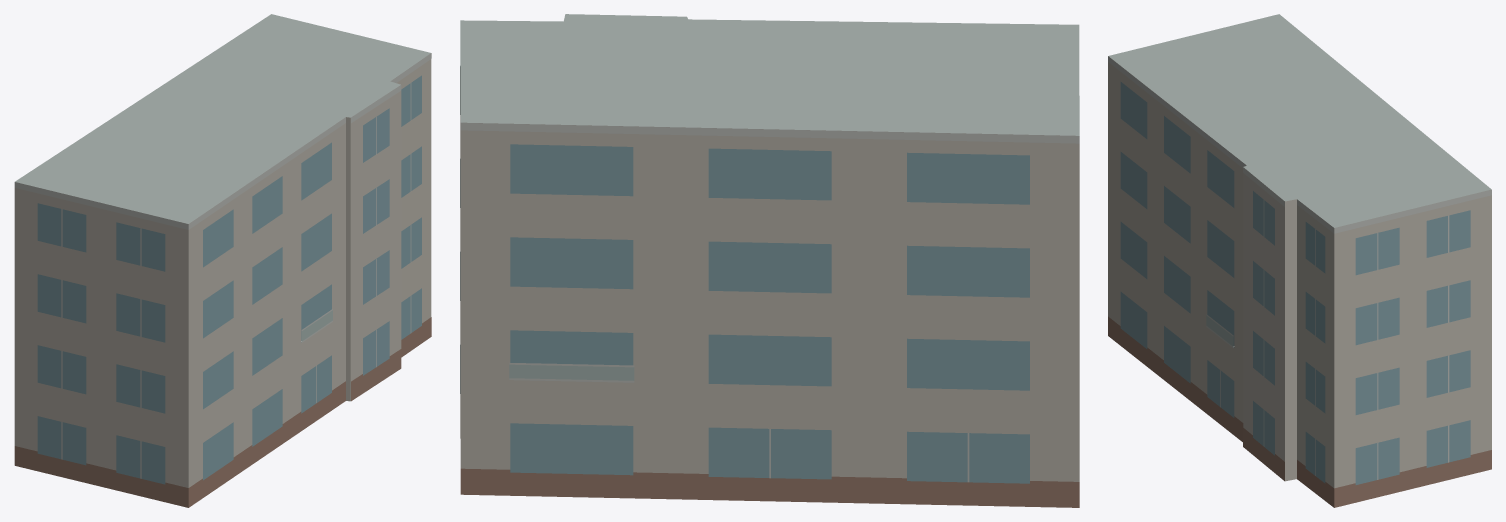
Rendered from survey-upis-32622229.glb.
3 views of the same model, side by side, from view 1: azimuth 30°, elevation 25°; view 2: azimuth 150°, elevation 25°; view 3: azimuth 270°, elevation 25° (orthographic). The views are drawn at different scales.
Visible parts, largest first — view 1: survey-upis-32622229.tmp; view 2: survey-upis-32622229.tmp; view 3: survey-upis-32622229.tmp.
Part boxes in pixels (x1,y1,x2,y2): survey-upis-32622229.tmp: [14, 14, 431, 507]; survey-upis-32622229.tmp: [460, 14, 1079, 507]; survey-upis-32622229.tmp: [1108, 14, 1491, 507].
Bounding box in the file's own units: 19.36 × 11.8 × 14.67.
